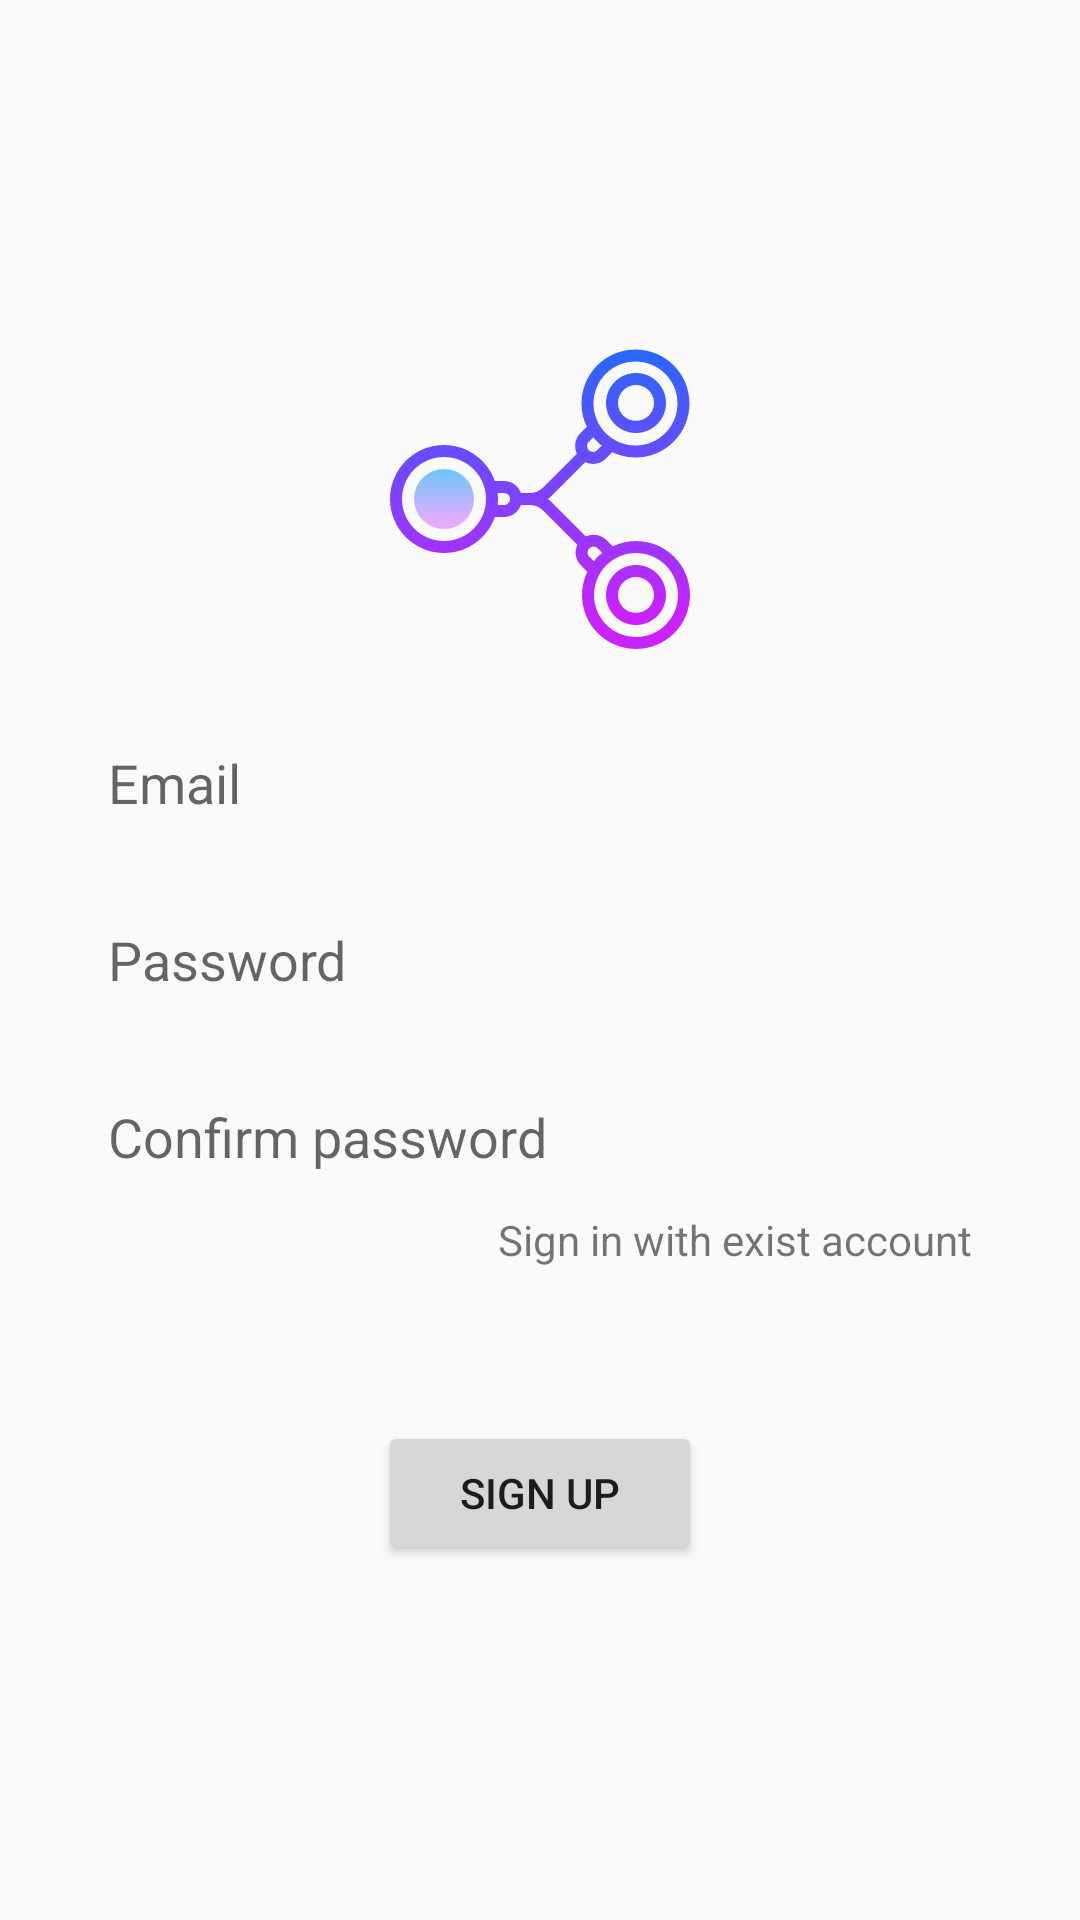

Named icons in this screenshot (1080 x 1920) and their bounding boxes, {"left": x1, "top": y1, "right": x2, "bottom": y2}:
connect: {"left": 390, "top": 349, "right": 690, "bottom": 649}
